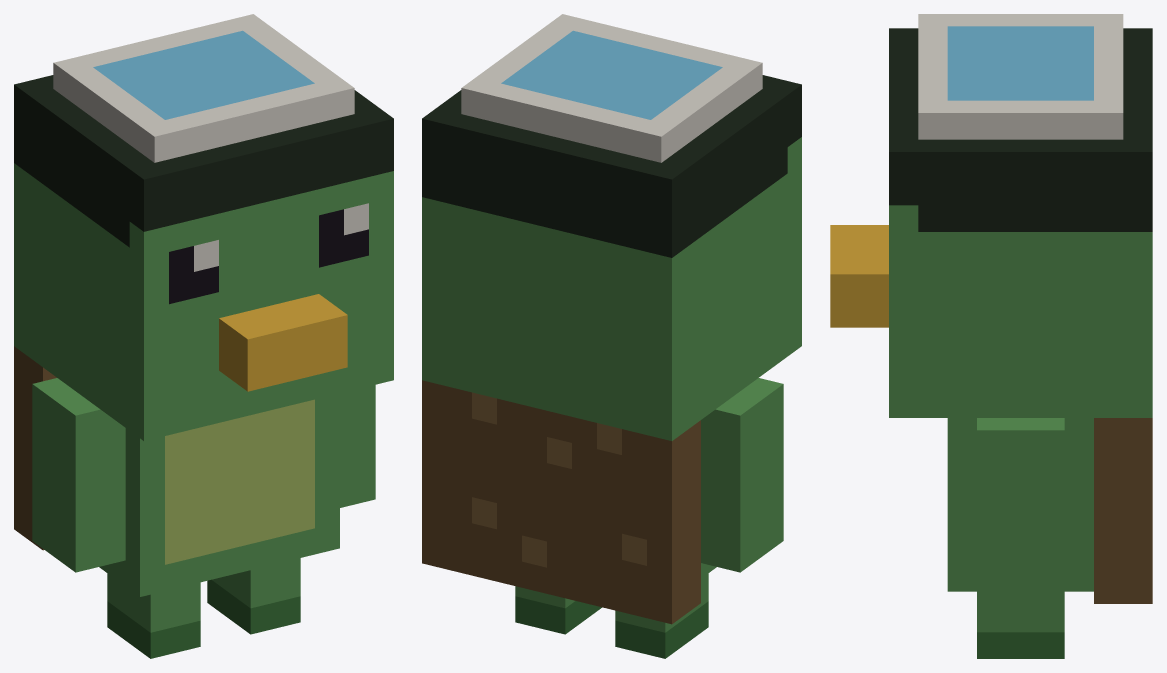
File: kappa.glb
3 views of the same model, side by side, from view 1: azimuth 30°, elevation 25°; view 2: azimuth 150°, elevation 25°; view 3: azimuth 270°, elevation 25° (orthographic).
Parts seen in each view (by area): view 1: Head, Body, ArmR, LegR, LegL, ArmL; view 2: Head, Body, ArmR, LegR, LegL; view 3: Head, Body, ArmL, LegL.
Boxes of the visible parts, x1,y1,x2,y2 form: Head: (14, 14, 393, 440); Body: (14, 346, 339, 596); ArmR: (32, 378, 125, 572); LegR: (107, 573, 200, 658); LegL: (207, 558, 300, 634); ArmL: (340, 384, 375, 507); Head: (422, 14, 801, 440); Body: (422, 380, 716, 624); ArmR: (701, 378, 783, 572); LegR: (615, 573, 708, 658); LegL: (515, 586, 601, 634); Head: (830, 14, 1152, 417); Body: (947, 418, 1152, 603); ArmL: (977, 418, 1064, 589); LegL: (977, 591, 1064, 658).
Size of the model in its own units: 1.2 by 2.1 by 1.1.
